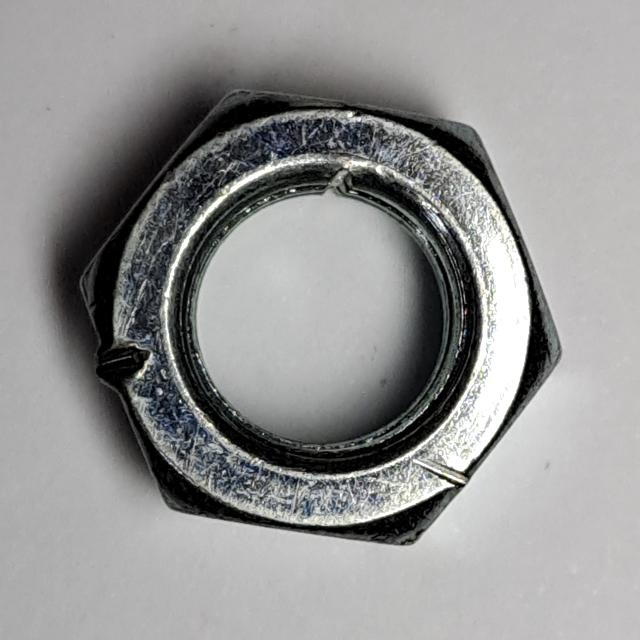Scratches: (68, 77, 575, 559)
